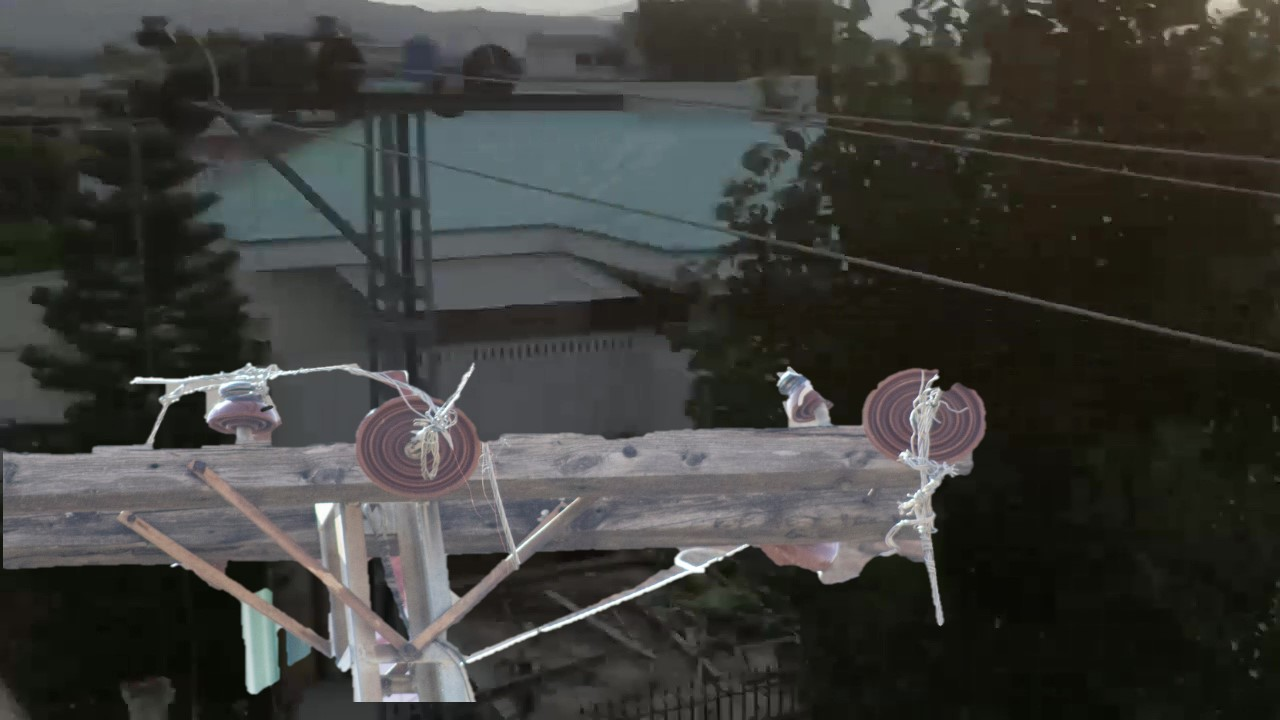defect_pin: (768, 357, 836, 438)
insulator_disc: (855, 354, 993, 473), (351, 384, 481, 500)
insulator_pin: (202, 369, 284, 445)
